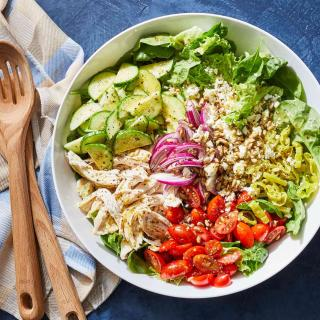salad: (54, 17, 320, 294)
veg: (56, 21, 320, 290)
